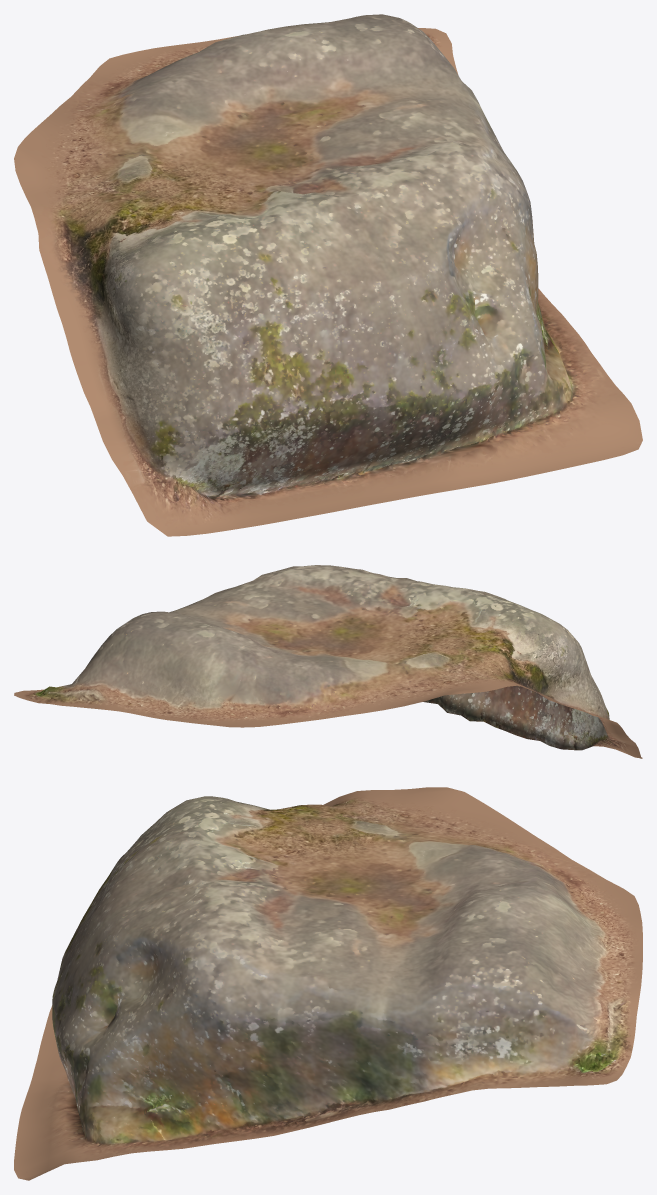
The model's file is Rock_11.FBX.
3 renders of one model, top to bottom at view 1: azimuth 30°, elevation 25°; view 2: azimuth 150°, elevation 25°; view 3: azimuth 270°, elevation 25°, orthographic. The views are drawn at different scales.
Visible parts, largest first — view 1: Rock11_LOD0; view 2: Rock11_LOD0; view 3: Rock11_LOD0.
Boxes of the visible parts, x1,y1,x2,y2 form: Rock11_LOD0: [14, 14, 642, 536]; Rock11_LOD0: [14, 565, 642, 758]; Rock11_LOD0: [14, 787, 642, 1180].
Size of what is drawn, in the model's own units: 6.77 by 6.7 by 2.76.
1 material, 1 textured.
